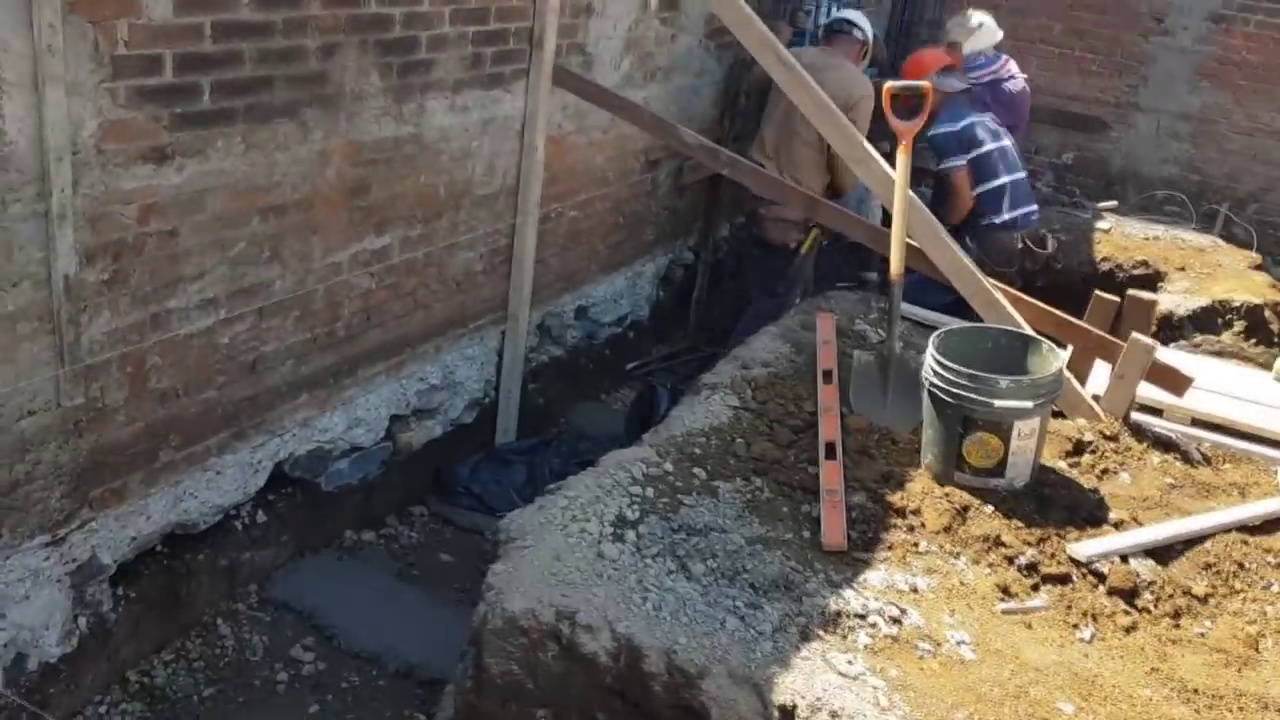helmet: (942, 8, 1011, 62), (901, 49, 963, 108), (823, 9, 872, 58)
helmet-on: (943, 7, 1016, 82), (903, 48, 974, 124), (813, 9, 874, 72)
person: (749, 12, 882, 256), (902, 49, 1033, 284), (942, 5, 1030, 142)
